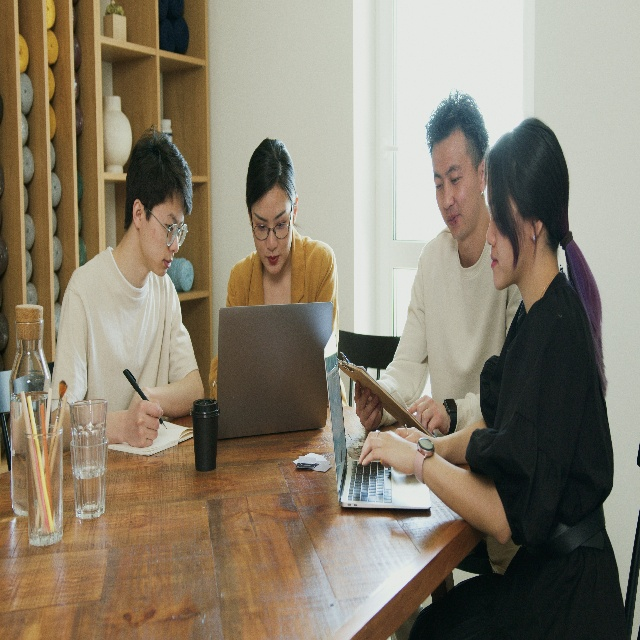Gafas: (249, 200, 294, 241), (147, 209, 188, 246)
Sin_guantes: (357, 427, 416, 477), (125, 395, 163, 448), (406, 395, 450, 436), (351, 377, 383, 427), (395, 426, 423, 445)
